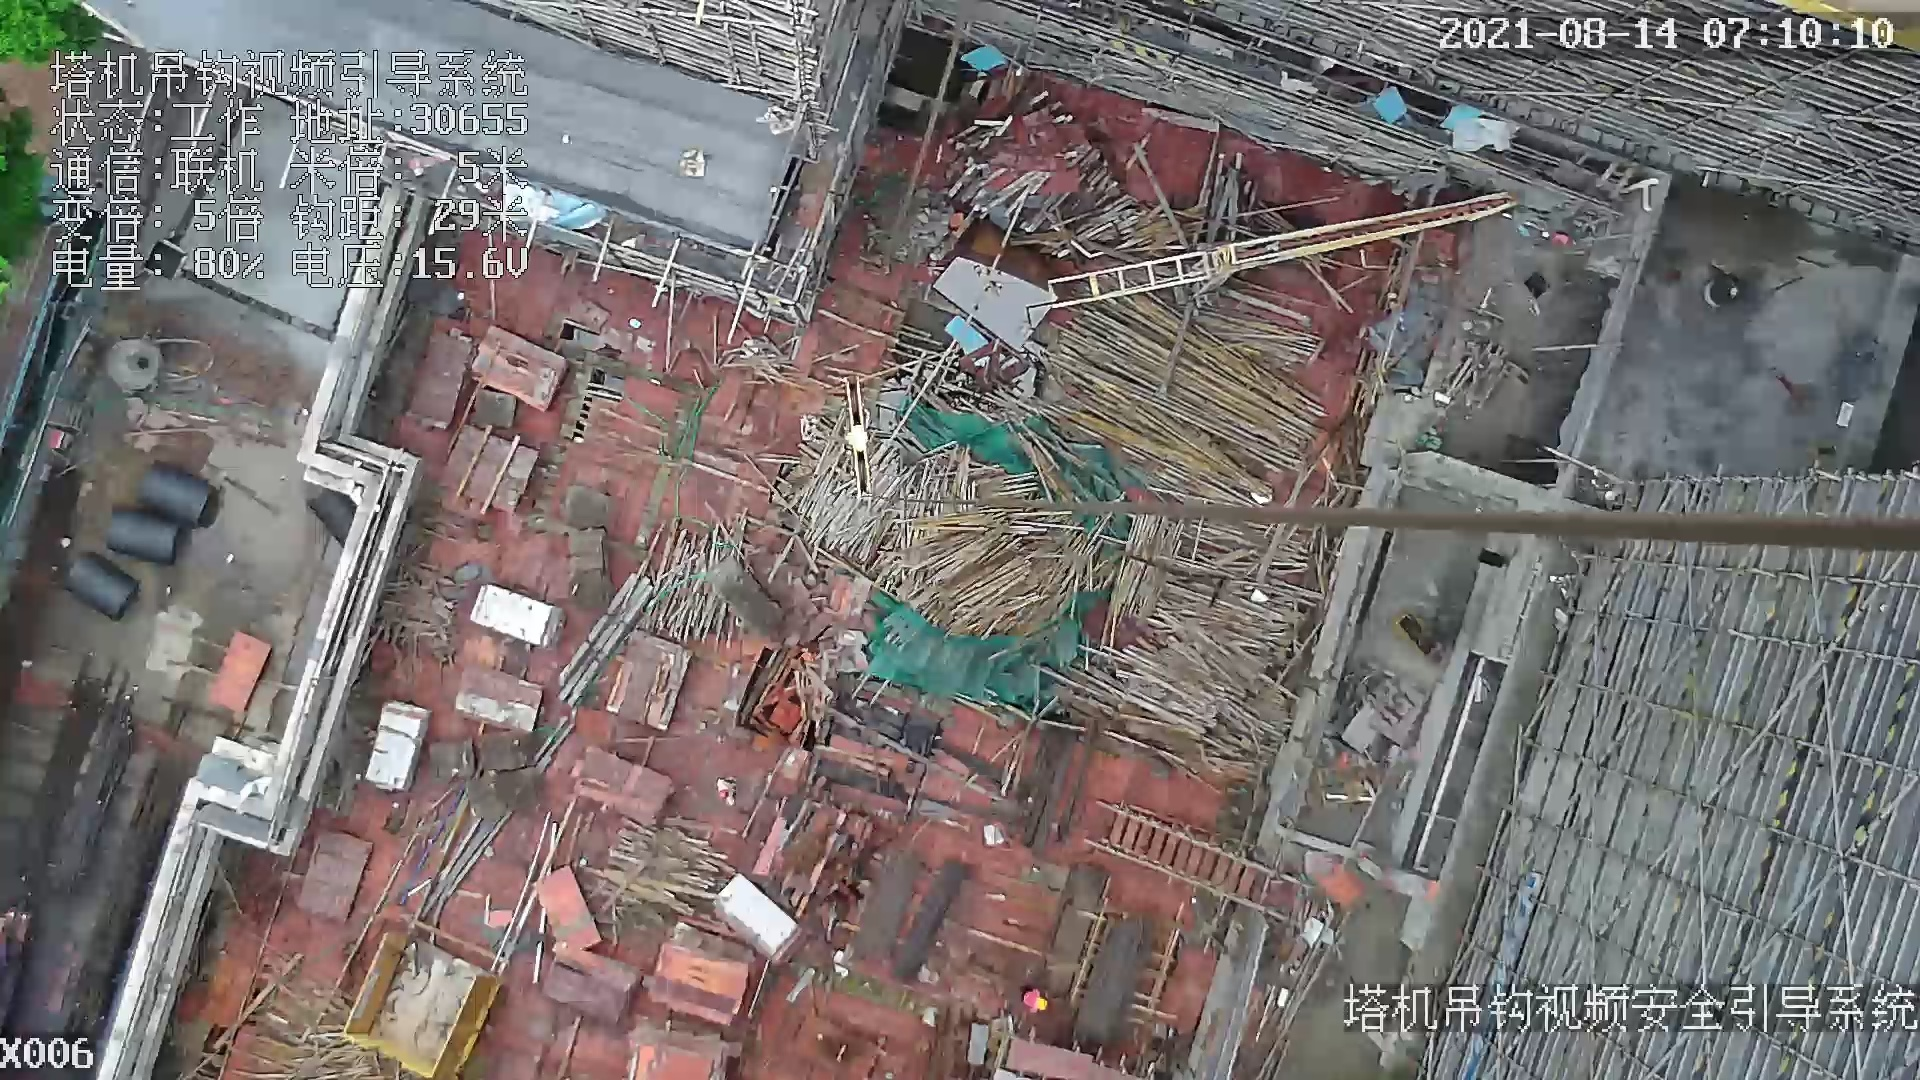helmet: (718, 789, 728, 799)
hook: (832, 376, 879, 501)
person: (714, 772, 740, 808)
